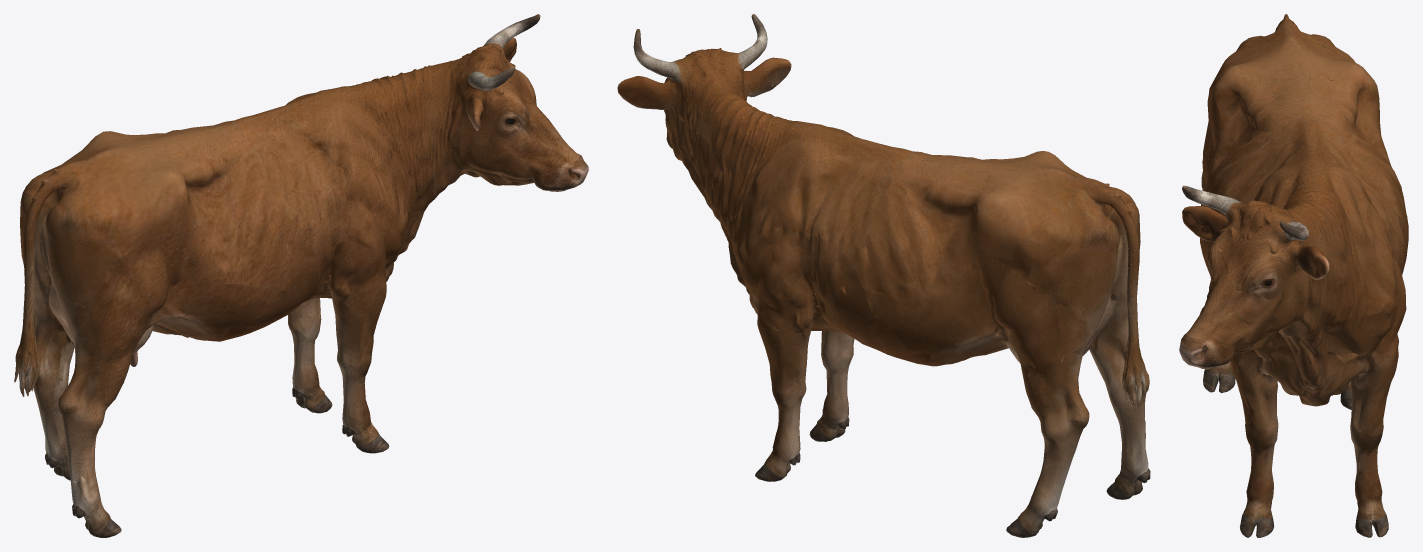
Rendered from cow.glb.
3 renders of one model, left to right at view 1: azimuth 30°, elevation 25°; view 2: azimuth 150°, elevation 25°; view 3: azimuth 270°, elevation 25°, orthographic. The views are drawn at different scales.
Visible parts, largest first — view 1: Mesh_0; view 2: Mesh_0; view 3: Mesh_0.
Part boxes in pixels (x1,y1,x2,y2): Mesh_0: [14, 14, 588, 537]; Mesh_0: [617, 14, 1150, 537]; Mesh_0: [1179, 14, 1408, 537].
Bounding box in the file's own units: 2.15 × 1.5 × 0.7717.
Materials: 1 (1 with a texture image).
